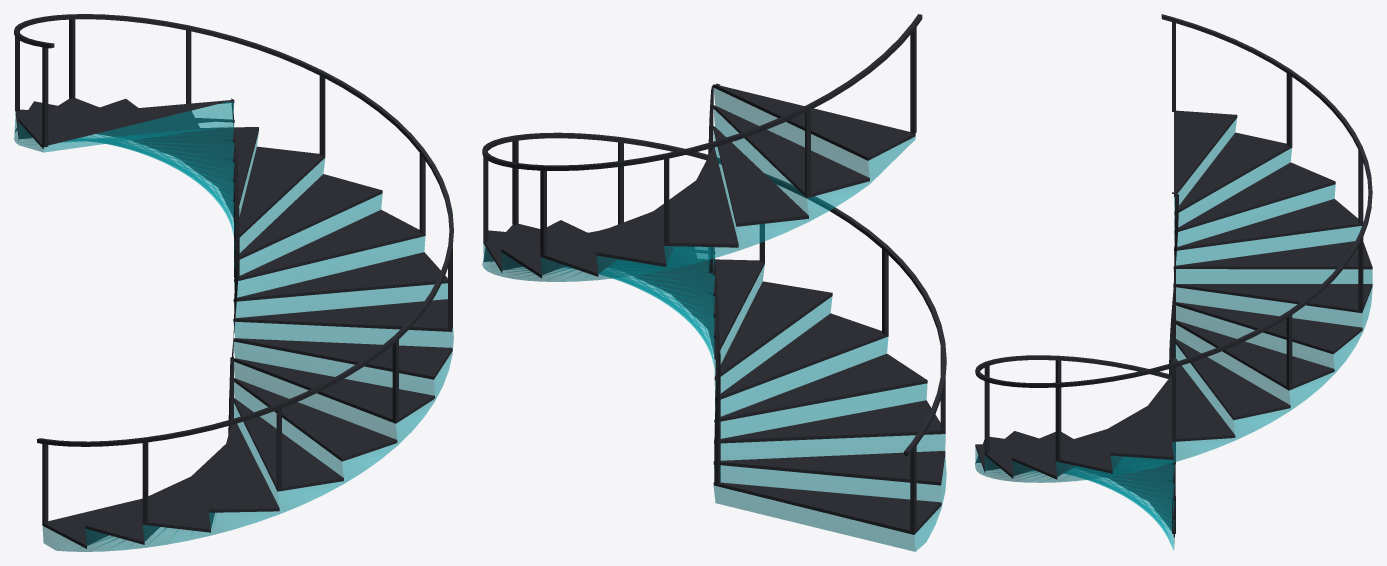
File: SpiralStairs.glb
The picture shows the model from 3 angles, left to right: view 1: azimuth 30°, elevation 25°; view 2: azimuth 150°, elevation 25°; view 3: azimuth 270°, elevation 25°; orthographic projection. The views are drawn at different scales.
Visible parts, largest first — view 1: Stair_spiral; view 2: Stair_spiral; view 3: Stair_spiral.
Boxes of the visible parts, left/top/right/bottom form: Stair_spiral: left=14, top=14, right=453, bottom=551; Stair_spiral: left=482, top=14, right=946, bottom=551; Stair_spiral: left=975, top=14, right=1372, bottom=550.
Size of what is drawn, in the model's own units: 4.02 by 5.08 by 4.02.
Materials: 2 (2 with a texture image).
